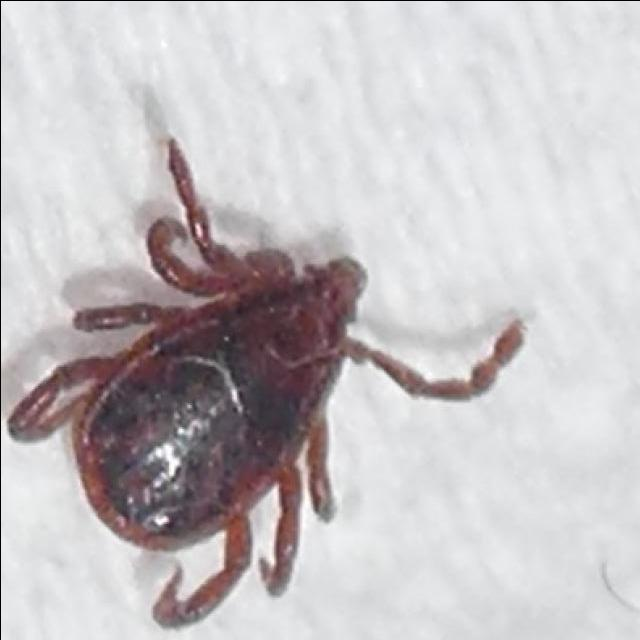Rhipicephalus Sanguineus-M: (6, 136, 525, 627)
